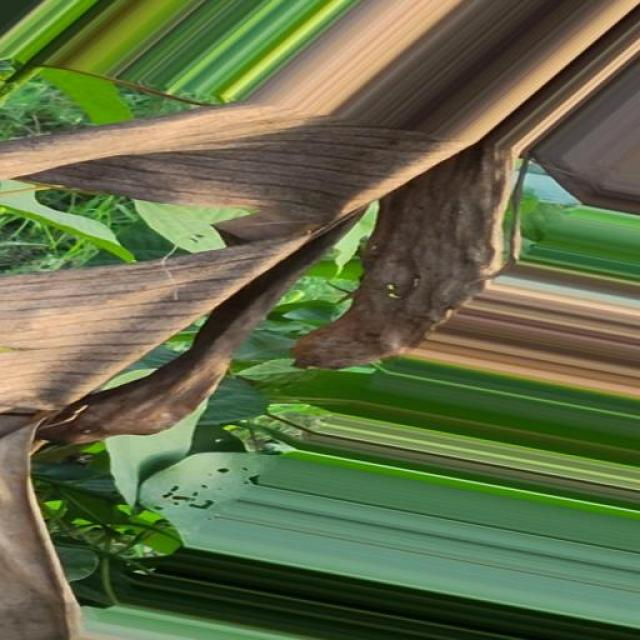Bract_mosaic_virus: (0, 106, 438, 640), (250, 0, 640, 297)
